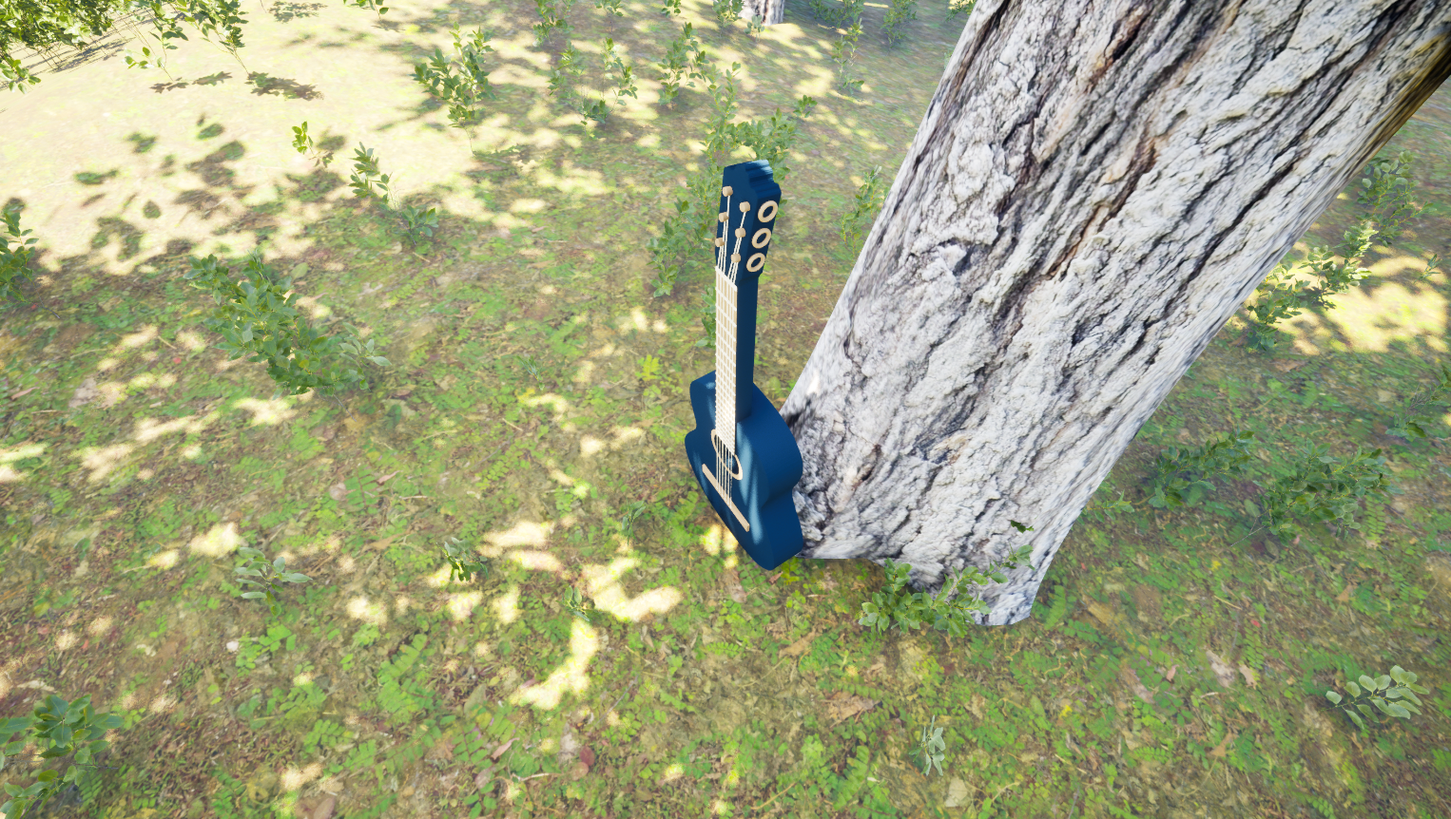Guitar: (646, 85, 883, 589)
